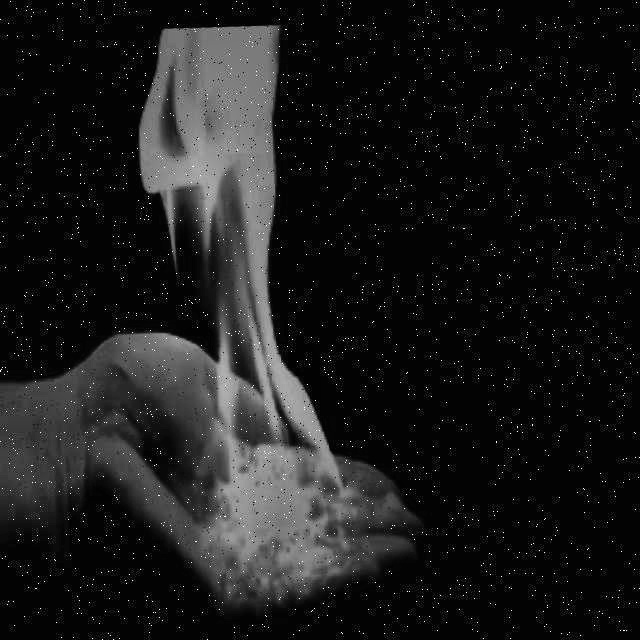Fire: (94, 7, 375, 529)
